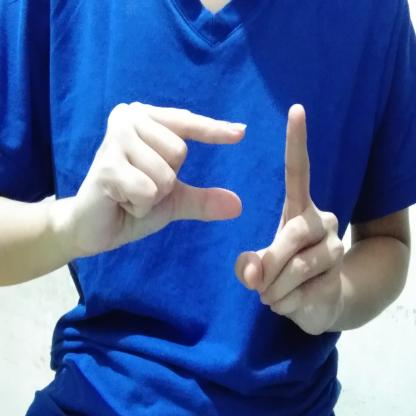daughter: (77, 93, 349, 345)
